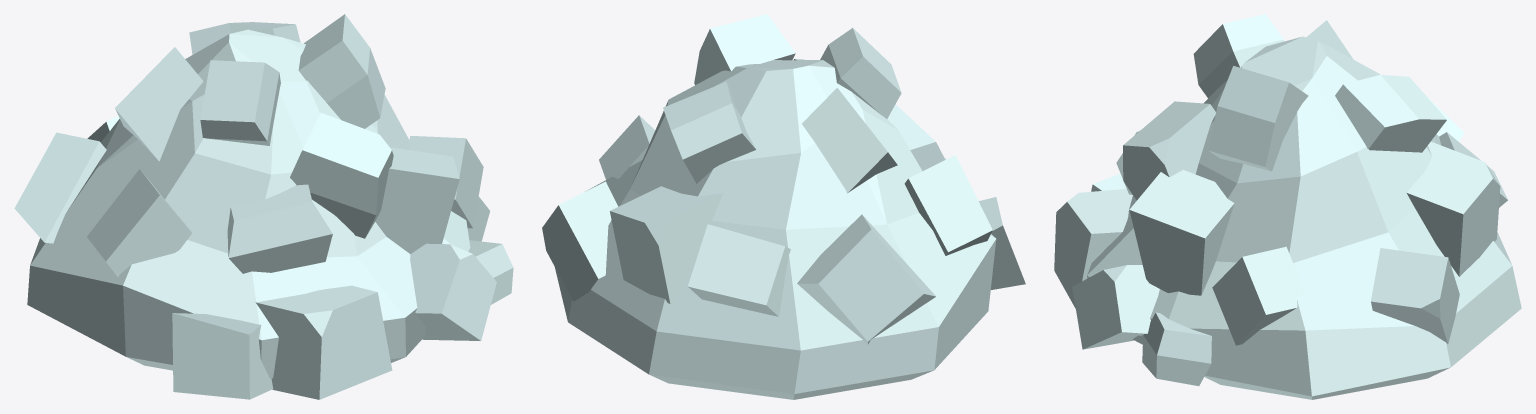
Rendered from salt.glb.
3 renders of one model, left to right at view 1: azimuth 30°, elevation 25°; view 2: azimuth 150°, elevation 25°; view 3: azimuth 270°, elevation 25°, orthographic. The views are drawn at different scales.
Parts seen in each view (by area): view 1: salt; view 2: salt; view 3: salt.
Part boxes in pixels (x1,y1,x2,y2): salt: (14, 14, 513, 399); salt: (542, 14, 1025, 399); salt: (1054, 14, 1521, 399).
Size of the model in its own units: 0.3274 by 0.2051 by 0.3122.
Materials: 1 (1 with a texture image).
